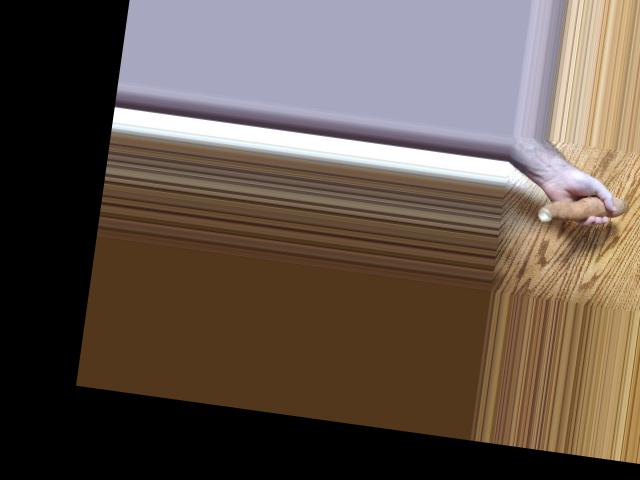sweet_potato: (530, 181, 621, 228)
